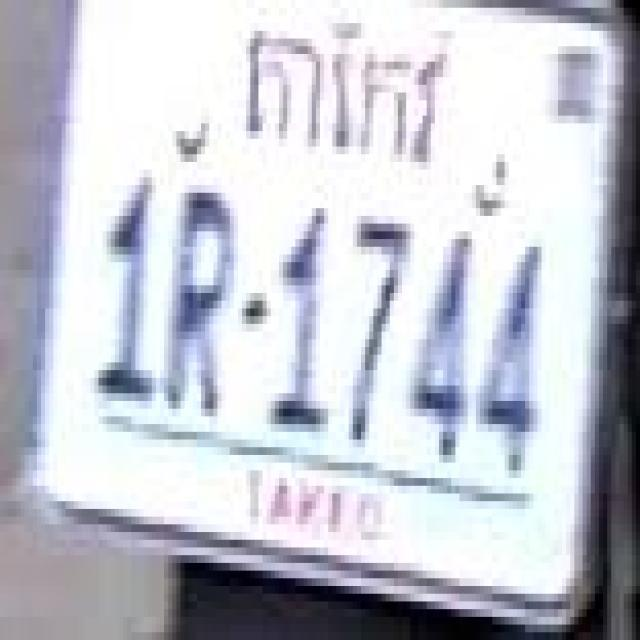Takeo: (242, 8, 448, 168)
